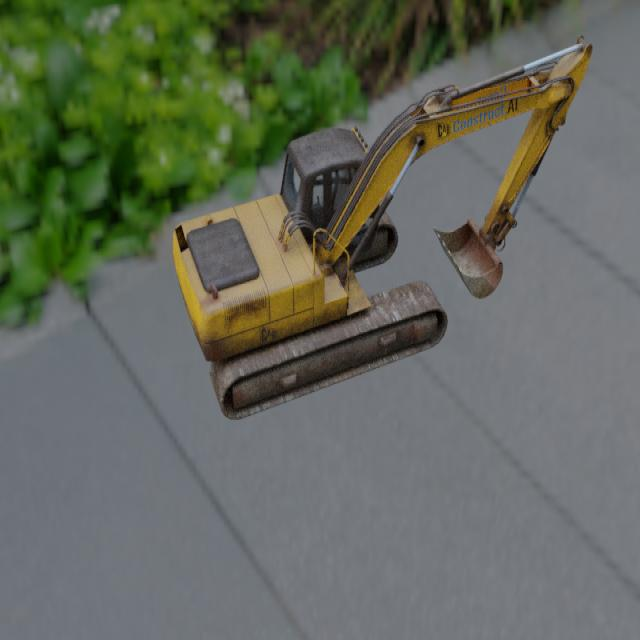excavator: (172, 33, 593, 420)
